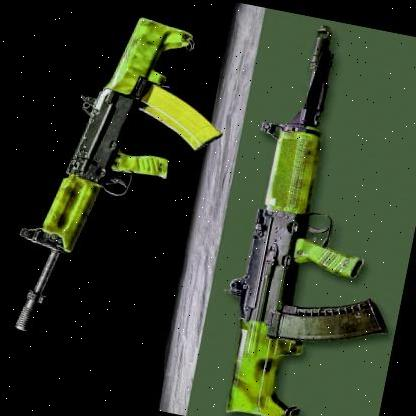rifle: (193, 15, 416, 416), (0, 0, 246, 361)
